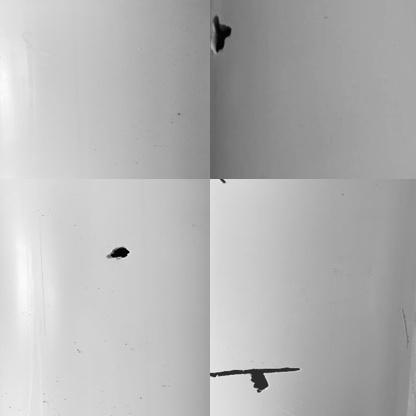fengxi: (210, 366, 302, 375)
kongdong: (209, 14, 235, 57), (248, 372, 274, 395), (101, 243, 135, 260), (219, 178, 227, 185)
